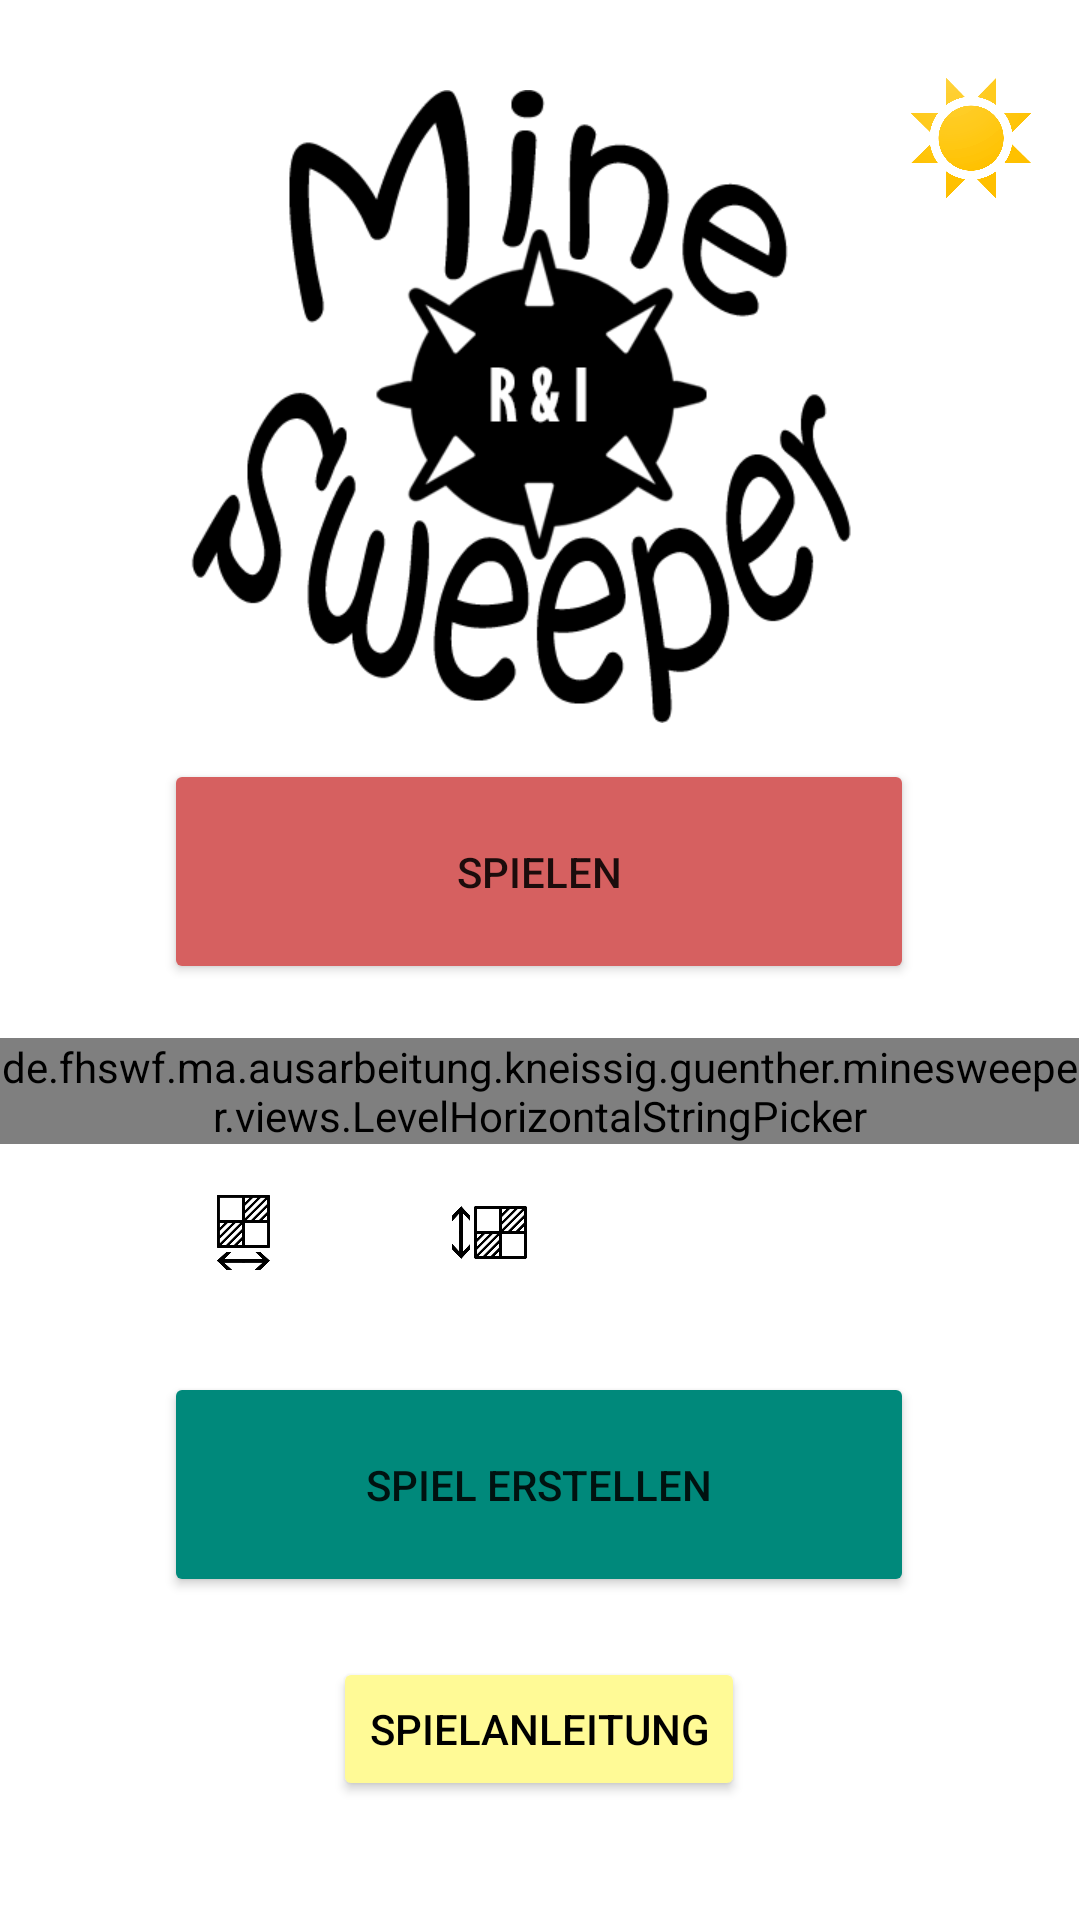

Icons on this 1080*1920 Android screen, each with the point to tap as [x,y]:
field height: [489,1232]
field width: [243,1232]
sun: [971,138]
